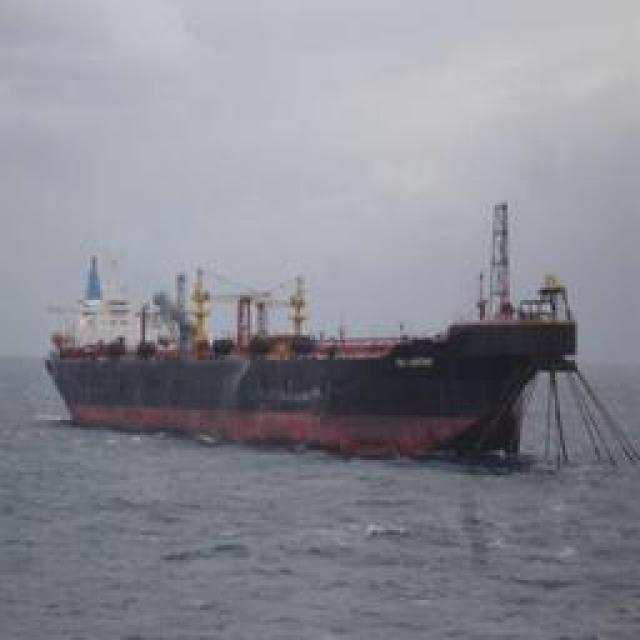Ship: (44, 254, 584, 457)
